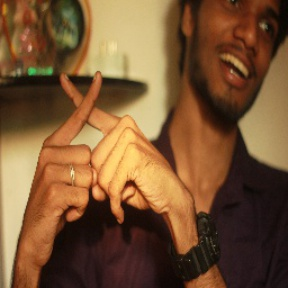X: (36, 58, 134, 166)
